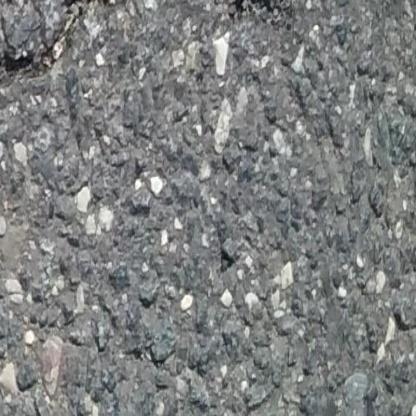Cracks: (0, 0, 145, 95), (160, 0, 341, 31)
